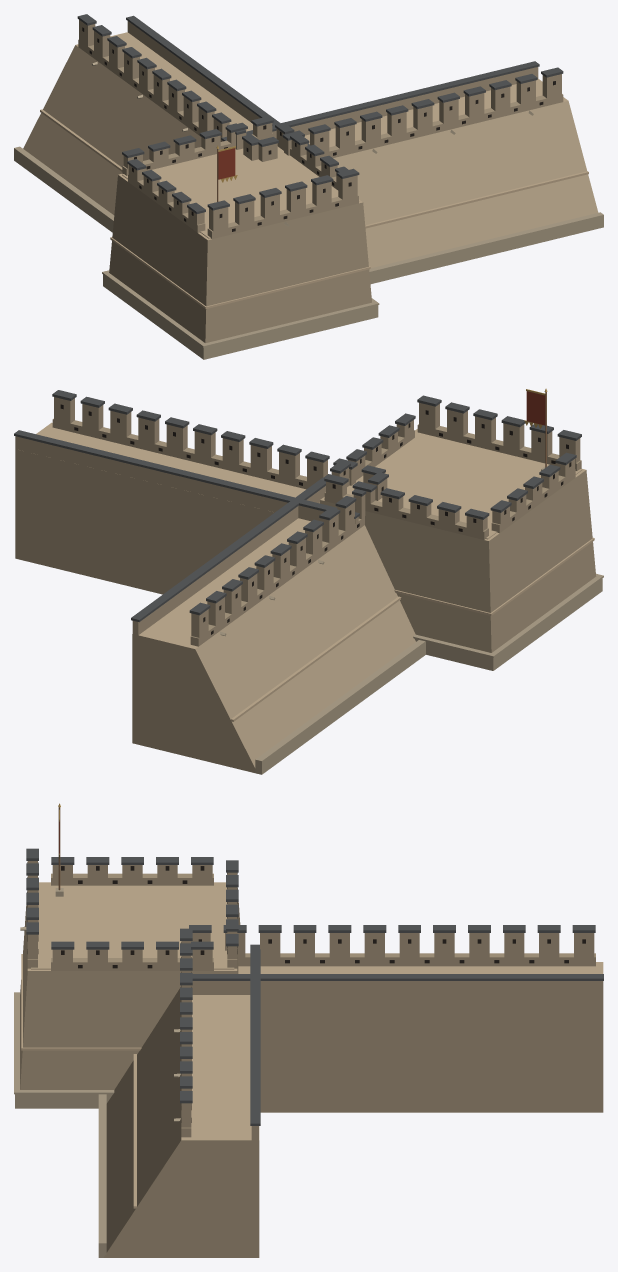
3 renders of one model, top to bottom at view 1: azimuth 30°, elevation 25°; view 2: azimuth 150°, elevation 25°; view 3: azimuth 270°, elevation 25°, orthographic. The views are drawn at different scales.
Visible parts, largest first — view 1: K02; view 2: K02; view 3: K02.
Boxes of the visible parts, <box> form: K02: <box>14,14,603,359</box>; K02: <box>14,388,603,774</box>; K02: <box>14,803,603,1257</box>.
Size of the model in its own units: 36.36 by 15.31 by 36.36.
